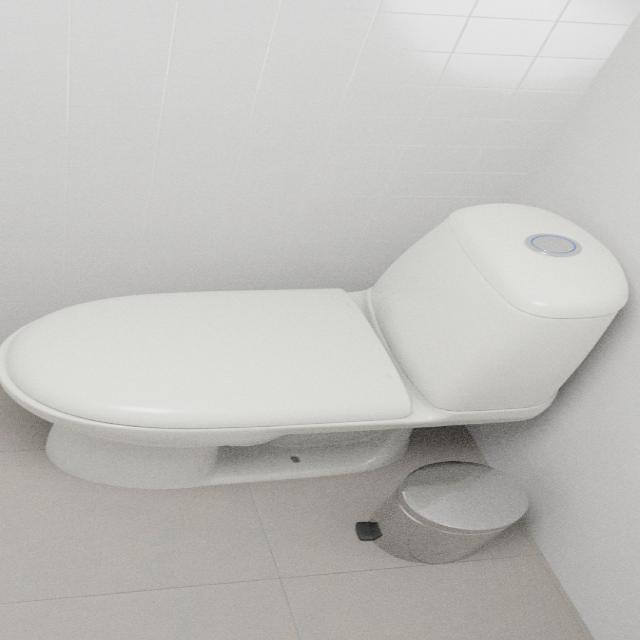toilet: (0, 201, 629, 489)
